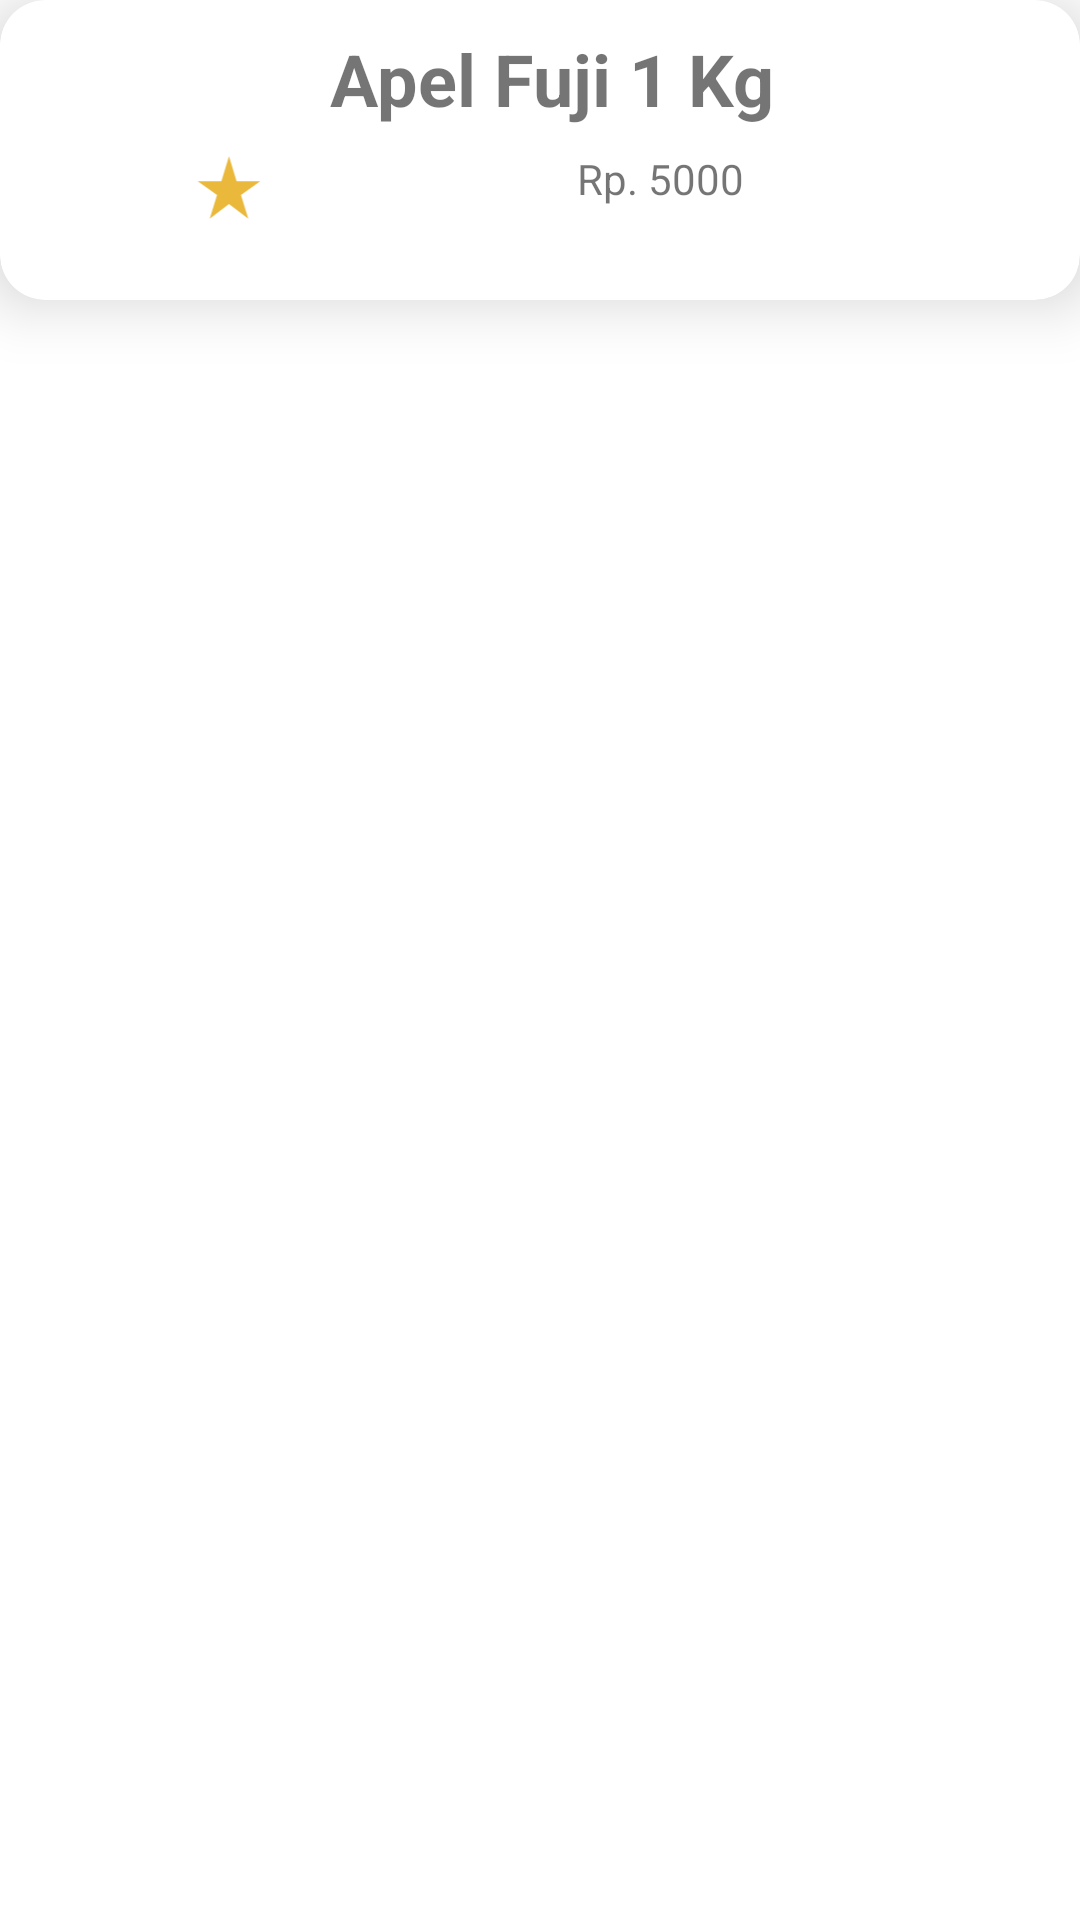

Where to tap for icons on this 1080*1920 app screen, as point (x, y):
star: point (229, 188)
